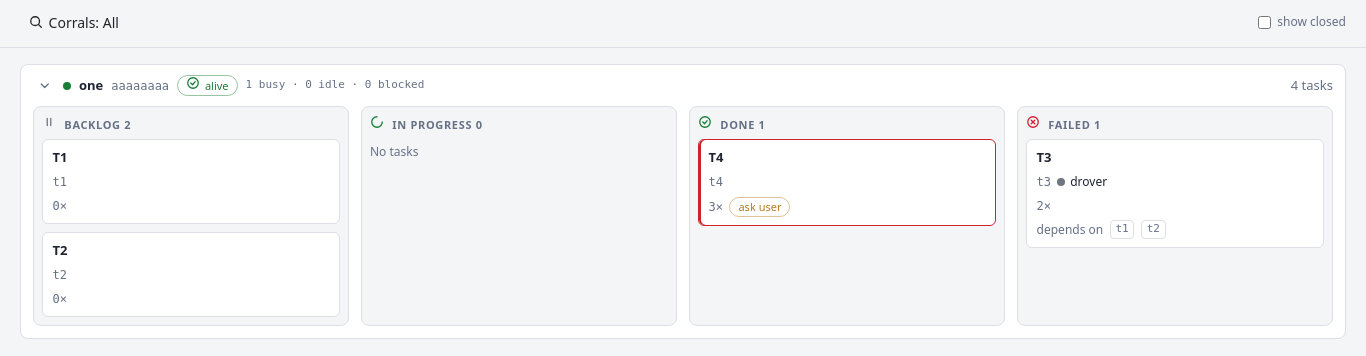
Test: Board › lane collapses
Click the button with test id "board-lane-toggle-aaaaaaaa" at [44, 86], box [33,72,55,100]
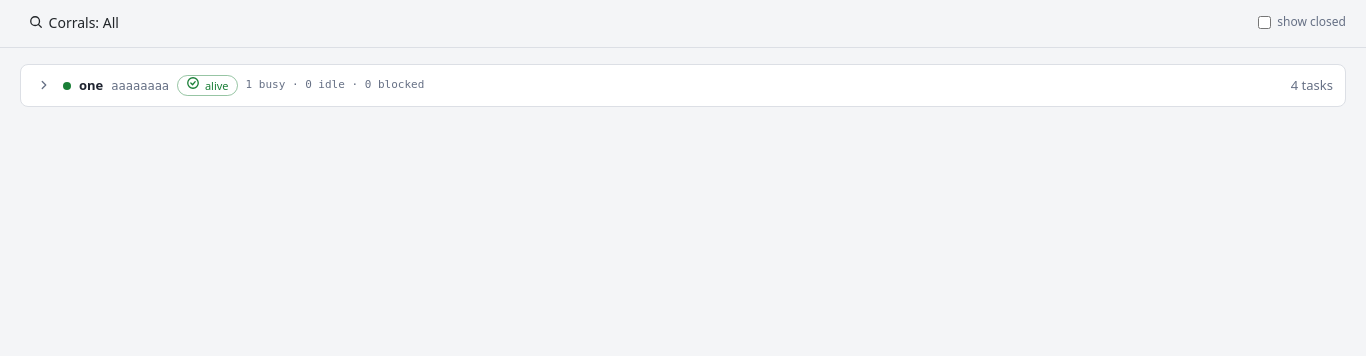
Result: the element with test id "board-col-aaaaaaaa-todo" is gone
